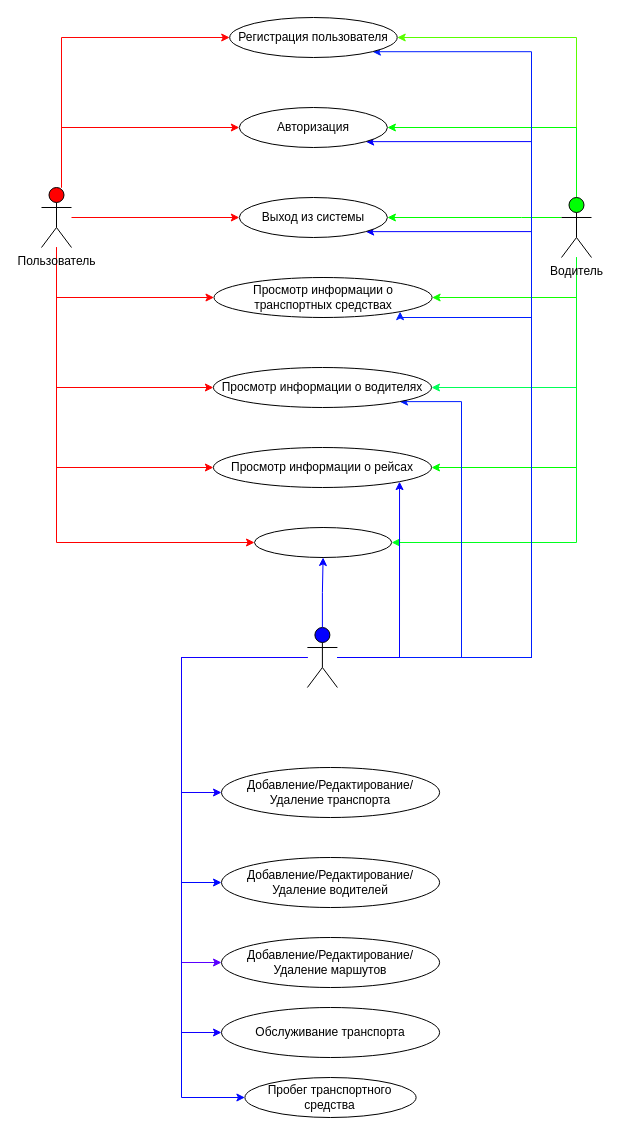
Image size: 620x1135. Some labels were removed from this diagram. The centre of each missing label's shape, as x and y in pixels:
Администратор: point 321,657
Фильтрация и сортировка: point 323,542
